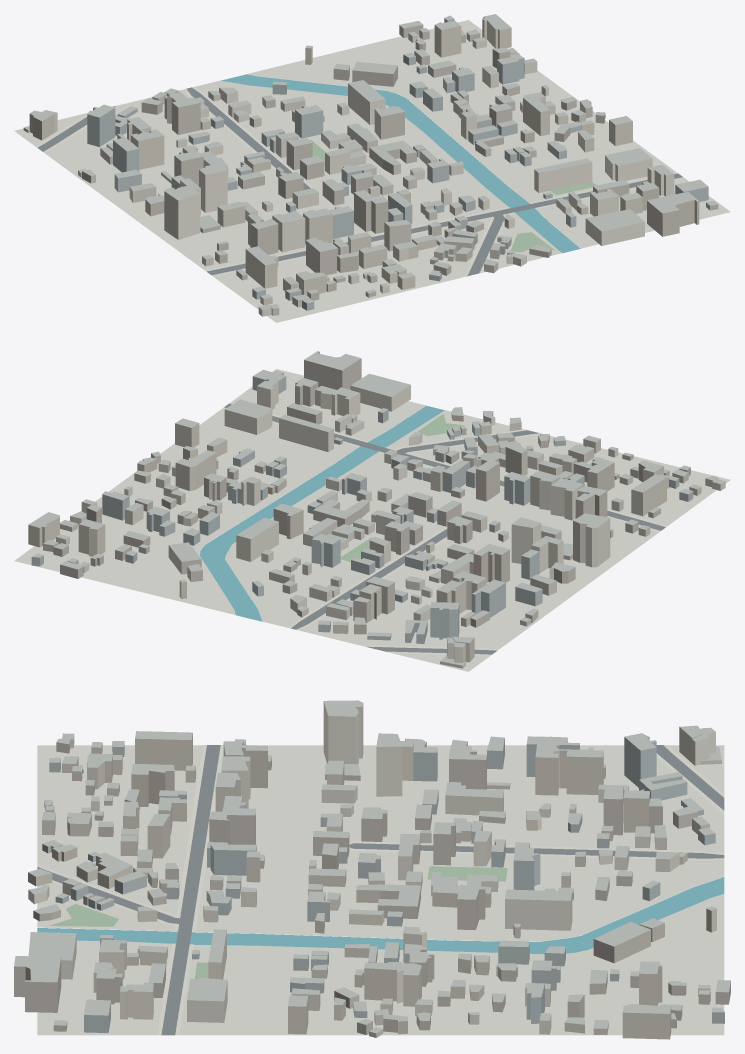
3 renders of one model, top to bottom at view 1: azimuth 30°, elevation 25°; view 2: azimuth 150°, elevation 25°; view 3: azimuth 270°, elevation 25°, orthographic. The views are drawn at different scales.
Parts seen in each view (by area): view 1: city; view 2: city; view 3: city.
Boxes of the visible parts, x1,y1,x2,y2 form: city: (14, 14, 730, 322); city: (14, 351, 730, 671); city: (14, 700, 730, 1039).
Bounding box in the file's own units: 512 × 41.58 × 522.
